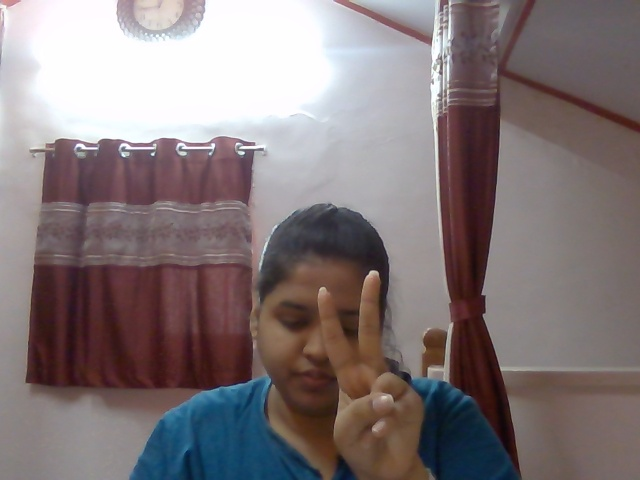v: (292, 272, 457, 467)
